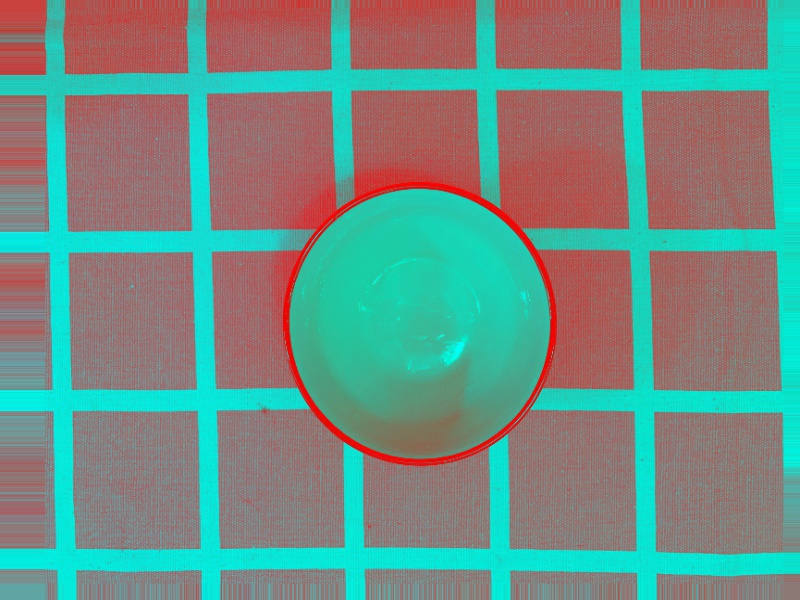bowl_small: (273, 173, 564, 471)
